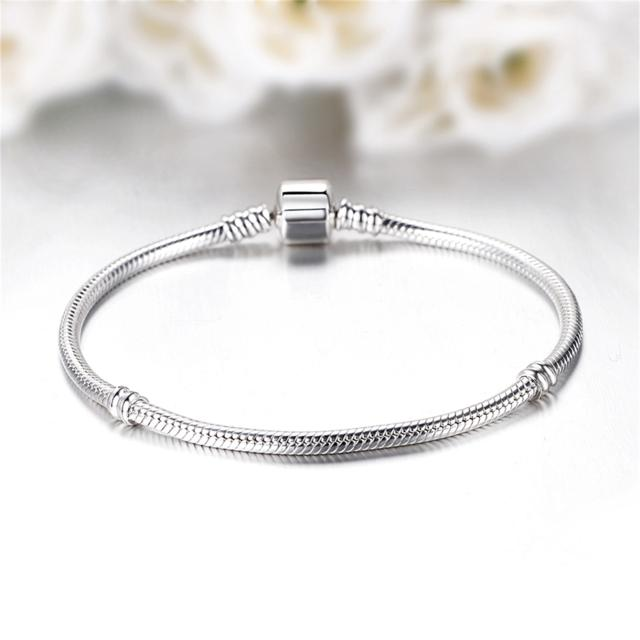bracelet: (0, 145, 640, 480)
